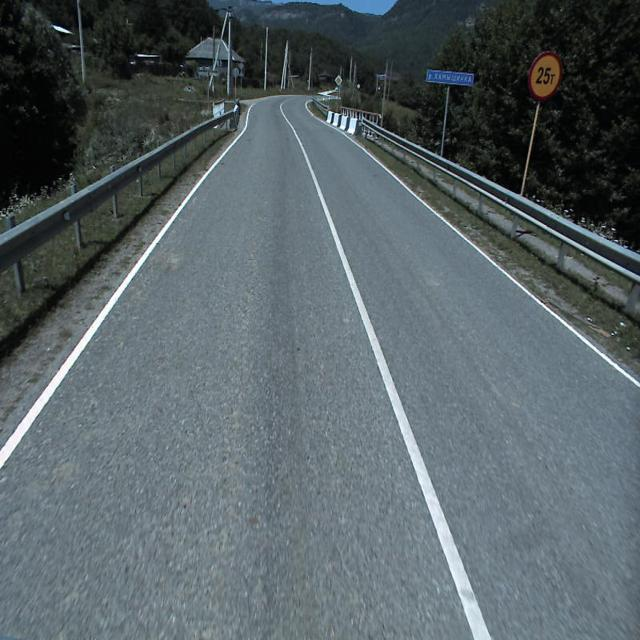road: (0, 94, 640, 639)
